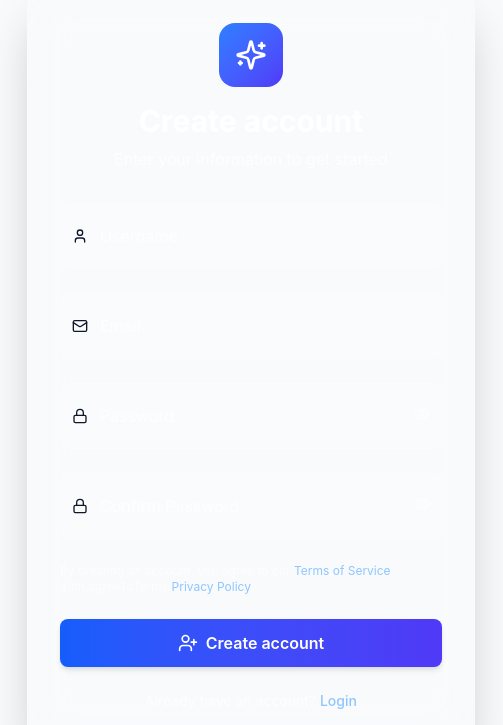
Test: RegisterPage › shows validation errors for empty fields
Step 1. Click the button "Create account" → (251, 643), box [60,619,442,667]
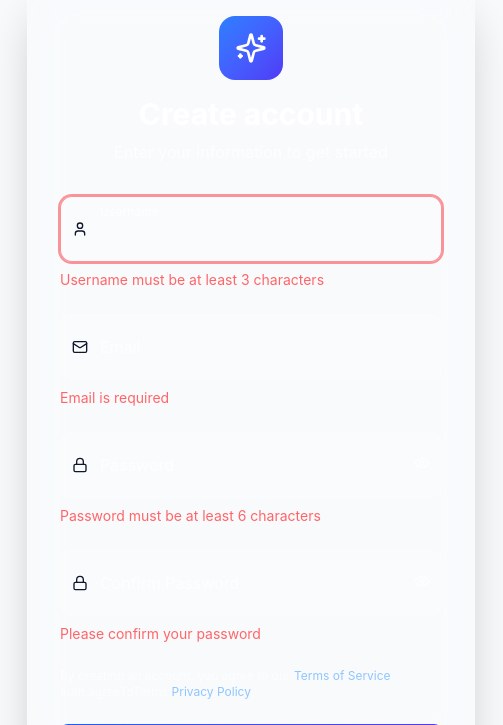
Result: the text "Username must be at least 3 characters" is shown at [60,271,324,288]
Result: the text "Email is required" is shown at [60,389,169,406]
Result: the text "Password must be at least 6 characters" is shown at [60,507,321,524]
